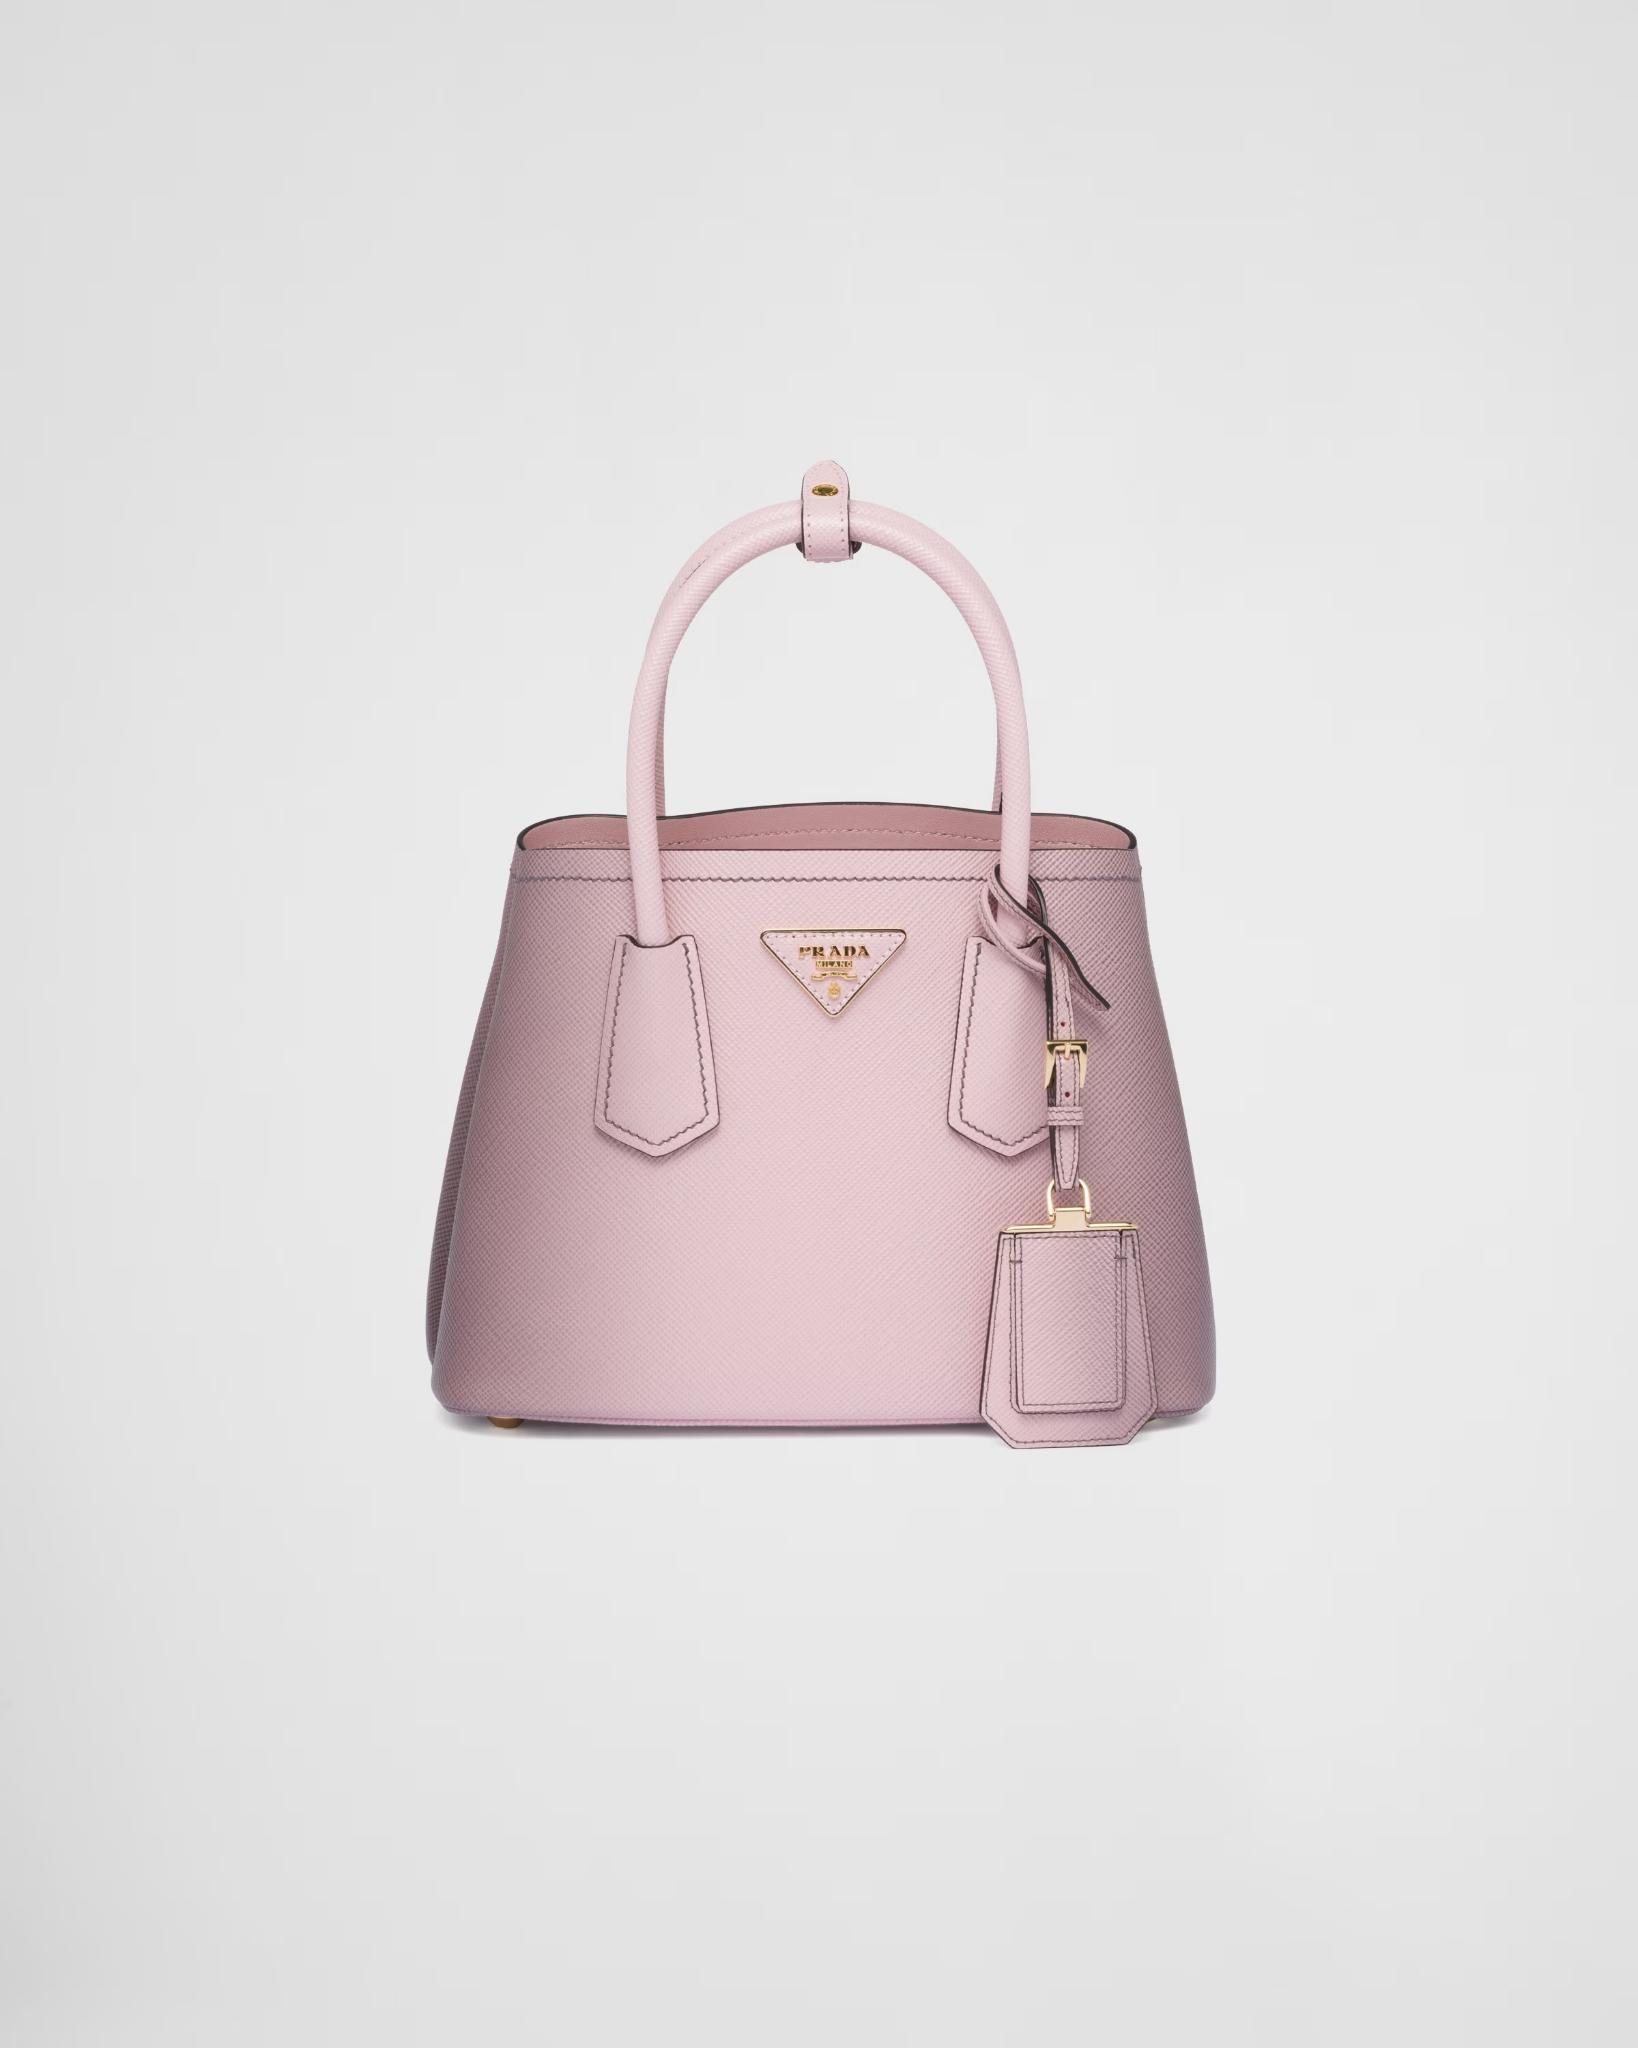PRADA: (759, 930, 906, 1016)
